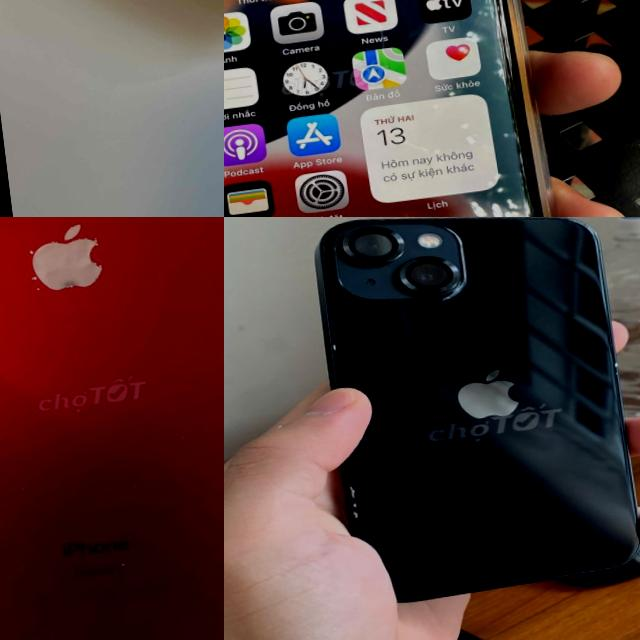gen_12_13: (285, 217, 640, 623)
gen_15: (30, 0, 224, 71)
gen_7_8: (0, 217, 224, 640), (224, 0, 576, 217)
